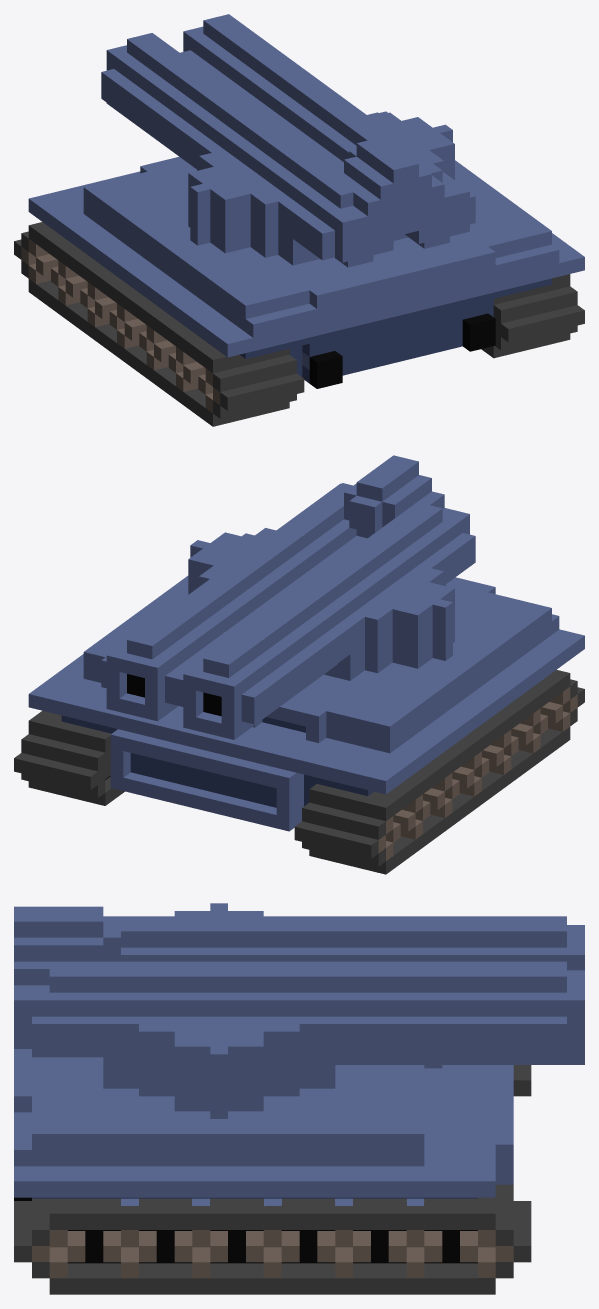
File: tank_01.gltf
3 views of the same model, one above another, from view 1: azimuth 30°, elevation 25°; view 2: azimuth 150°, elevation 25°; view 3: azimuth 270°, elevation 25° (orthographic). The views are drawn at different scales.
Visible parts, largest first — view 1: test-Mesh; view 2: test-Mesh; view 3: test-Mesh.
Boxes of the visible parts, box(x1,y1,x2,y2) form: test-Mesh: box(14, 14, 584, 426); test-Mesh: box(14, 455, 584, 874); test-Mesh: box(14, 903, 584, 1294).
Bounding box in the file's own units: 28 × 17 × 32.
Materials: 1 (1 with a texture image).
